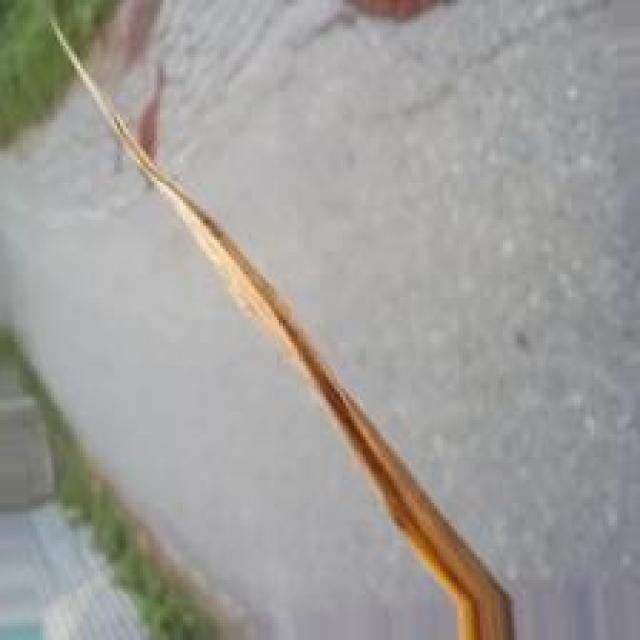Rice False Smut: (181, 195, 512, 637)
